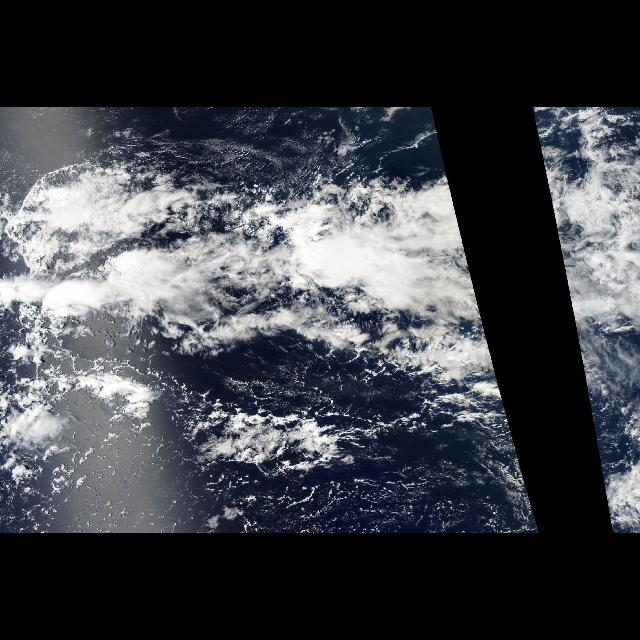Sugar: (2, 109, 446, 183)
